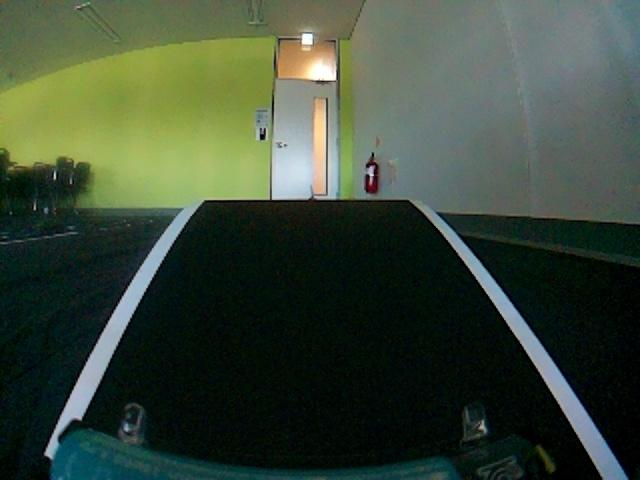hill_up: (49, 176, 614, 480)
